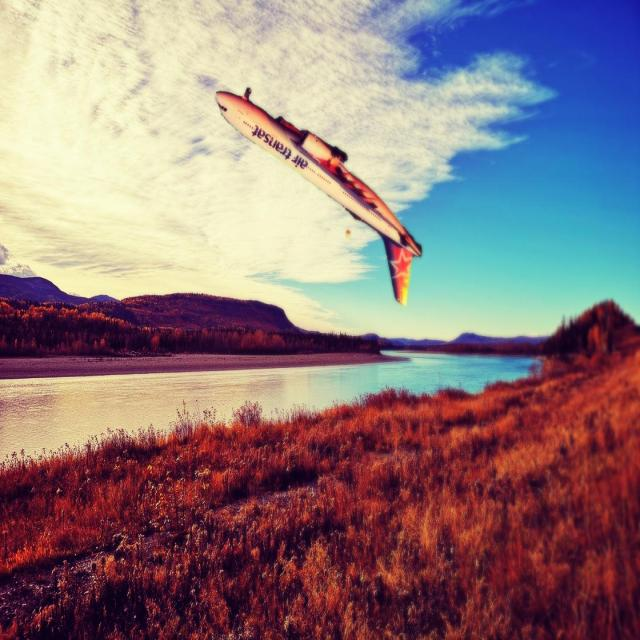airplane: (214, 86, 423, 306)
